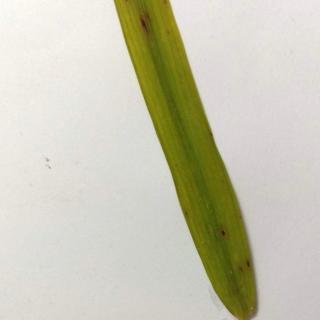bercak-Cokelat: (139, 14, 163, 44), (238, 256, 255, 272), (217, 222, 232, 240)
